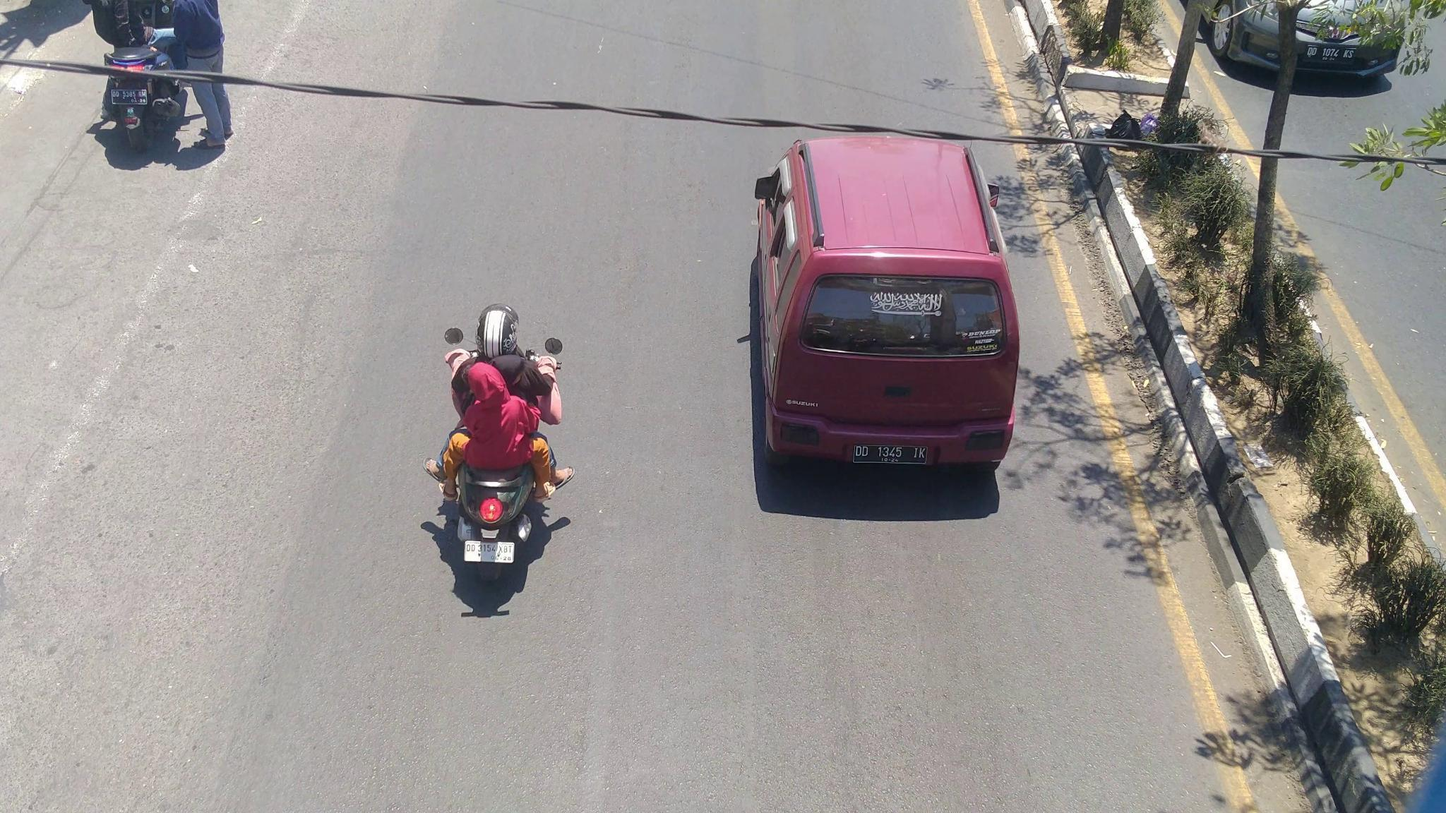Helmet: (471, 299, 526, 365)
bike: (437, 323, 565, 590)
no-helmet: (460, 358, 517, 414)
number-plate: (463, 538, 515, 568)
rider: (442, 359, 575, 503), (452, 302, 561, 422)
